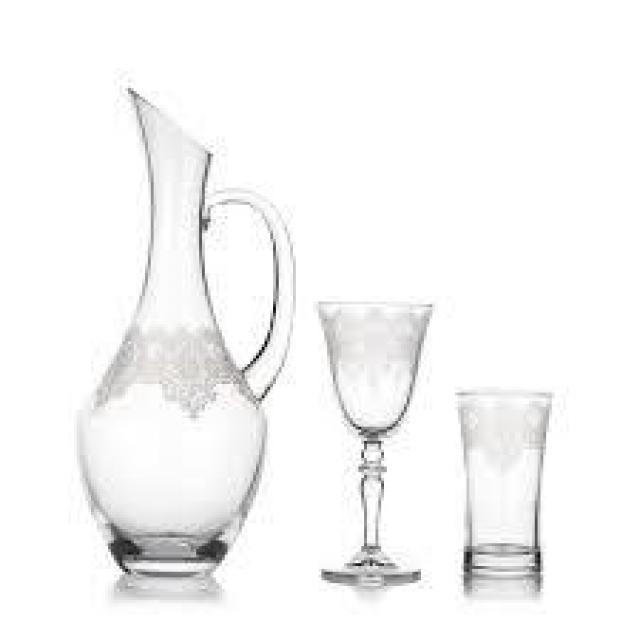non-organic waste: (62, 85, 296, 580), (312, 296, 436, 583), (451, 385, 553, 582)
